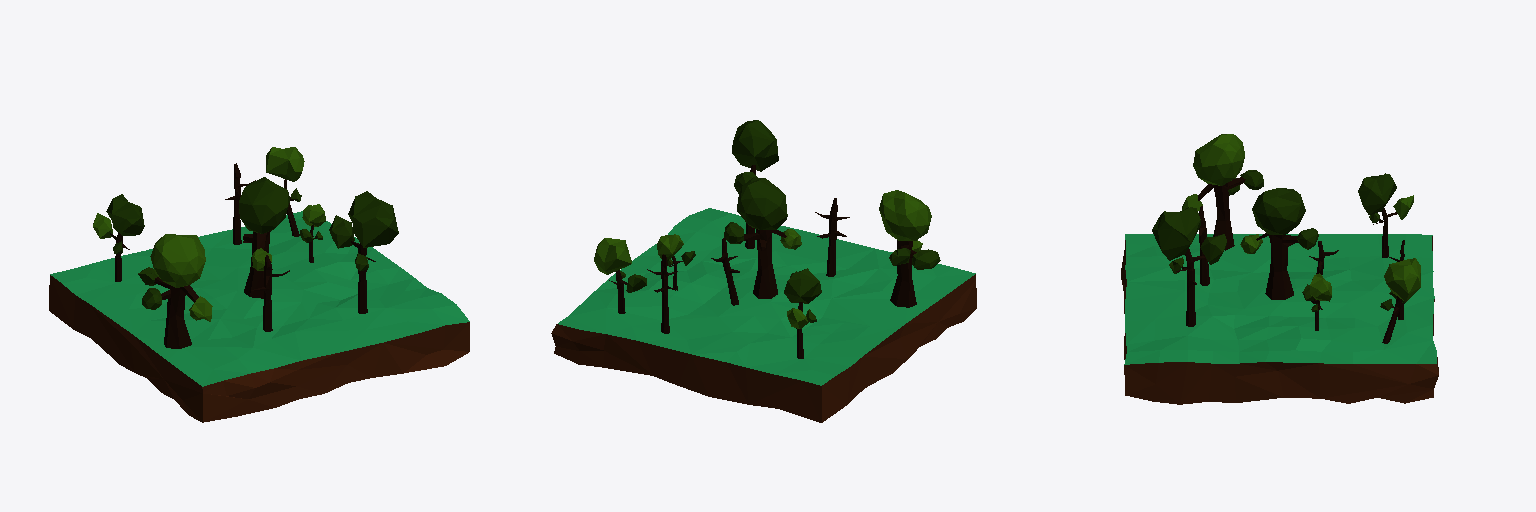
File: tree_preview.obj
The picture shows the model from 3 angles: view 1: azimuth 30°, elevation 25°; view 2: azimuth 150°, elevation 25°; view 3: azimuth 270°, elevation 25°; orthographic projection.
Parts seen in each view (by area): view 1: Cube_Cube.006, Icosphere.000_Icosphere.019, Icosphere.003_Icosphere.012, Icosphere.002_Icosphere.011, Icosphere.004_Icosphere.015, Icosphere.001_Icosphere.020, Icosphere.005_Icosphere.021, Cylinder.002, Cylinder.000_Cylinder.005; view 2: Cube_Cube.006, Icosphere.002_Icosphere.011, Icosphere.000_Icosphere.019, Icosphere.003_Icosphere.012, Icosphere.001_Icosphere.020, Icosphere.004_Icosphere.015, Icosphere.005_Icosphere.021, Cylinder.002, Cylinder.000_Cylinder.005; view 3: Cube_Cube.006, Icosphere.002_Icosphere.011, Icosphere.000_Icosphere.019, Icosphere.003_Icosphere.012, Icosphere.004_Icosphere.015, Icosphere.001_Icosphere.020, Icosphere.005_Icosphere.021.
Part boxes in pixels (bbox=[...]): Cube_Cube.006: bbox=[49, 211, 469, 422]; Icosphere.000_Icosphere.019: bbox=[138, 234, 212, 348]; Icosphere.003_Icosphere.012: bbox=[329, 191, 398, 313]; Icosphere.002_Icosphere.011: bbox=[239, 177, 289, 298]; Icosphere.004_Icosphere.015: bbox=[93, 194, 144, 281]; Icosphere.001_Icosphere.020: bbox=[266, 147, 304, 236]; Icosphere.005_Icosphere.021: bbox=[300, 204, 325, 262]; Cylinder.002: bbox=[251, 255, 289, 331]; Cylinder.000_Cylinder.005: bbox=[225, 163, 255, 244]; Cube_Cube.006: bbox=[551, 208, 976, 422]; Icosphere.002_Icosphere.011: bbox=[724, 177, 801, 298]; Icosphere.000_Icosphere.019: bbox=[879, 190, 940, 307]; Icosphere.003_Icosphere.012: bbox=[732, 120, 778, 248]; Icosphere.001_Icosphere.020: bbox=[594, 238, 646, 313]; Icosphere.004_Icosphere.015: bbox=[784, 268, 821, 358]; Icosphere.005_Icosphere.021: bbox=[657, 234, 695, 290]; Cylinder.002: bbox=[815, 198, 849, 276]; Cylinder.000_Cylinder.005: bbox=[647, 254, 677, 333]; Cube_Cube.006: bbox=[1121, 234, 1438, 404]; Icosphere.002_Icosphere.011: bbox=[1240, 188, 1318, 299]; Icosphere.000_Icosphere.019: bbox=[1182, 134, 1263, 250]; Icosphere.003_Icosphere.012: bbox=[1152, 207, 1226, 326]; Icosphere.004_Icosphere.015: bbox=[1358, 173, 1413, 257]; Icosphere.001_Icosphere.020: bbox=[1380, 258, 1420, 343]; Icosphere.005_Icosphere.021: bbox=[1302, 273, 1331, 330].
Bounding box in the file's own units: 6.3 × 3.5 × 6.19.